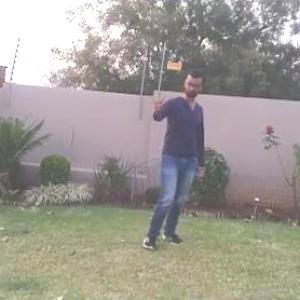takeoff-hand: (147, 84, 169, 114)
